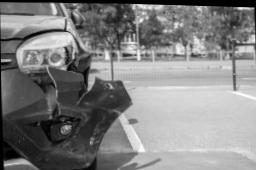Bumper: (1, 67, 134, 170)
